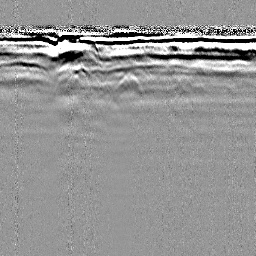cavity: (113, 70, 144, 93)
